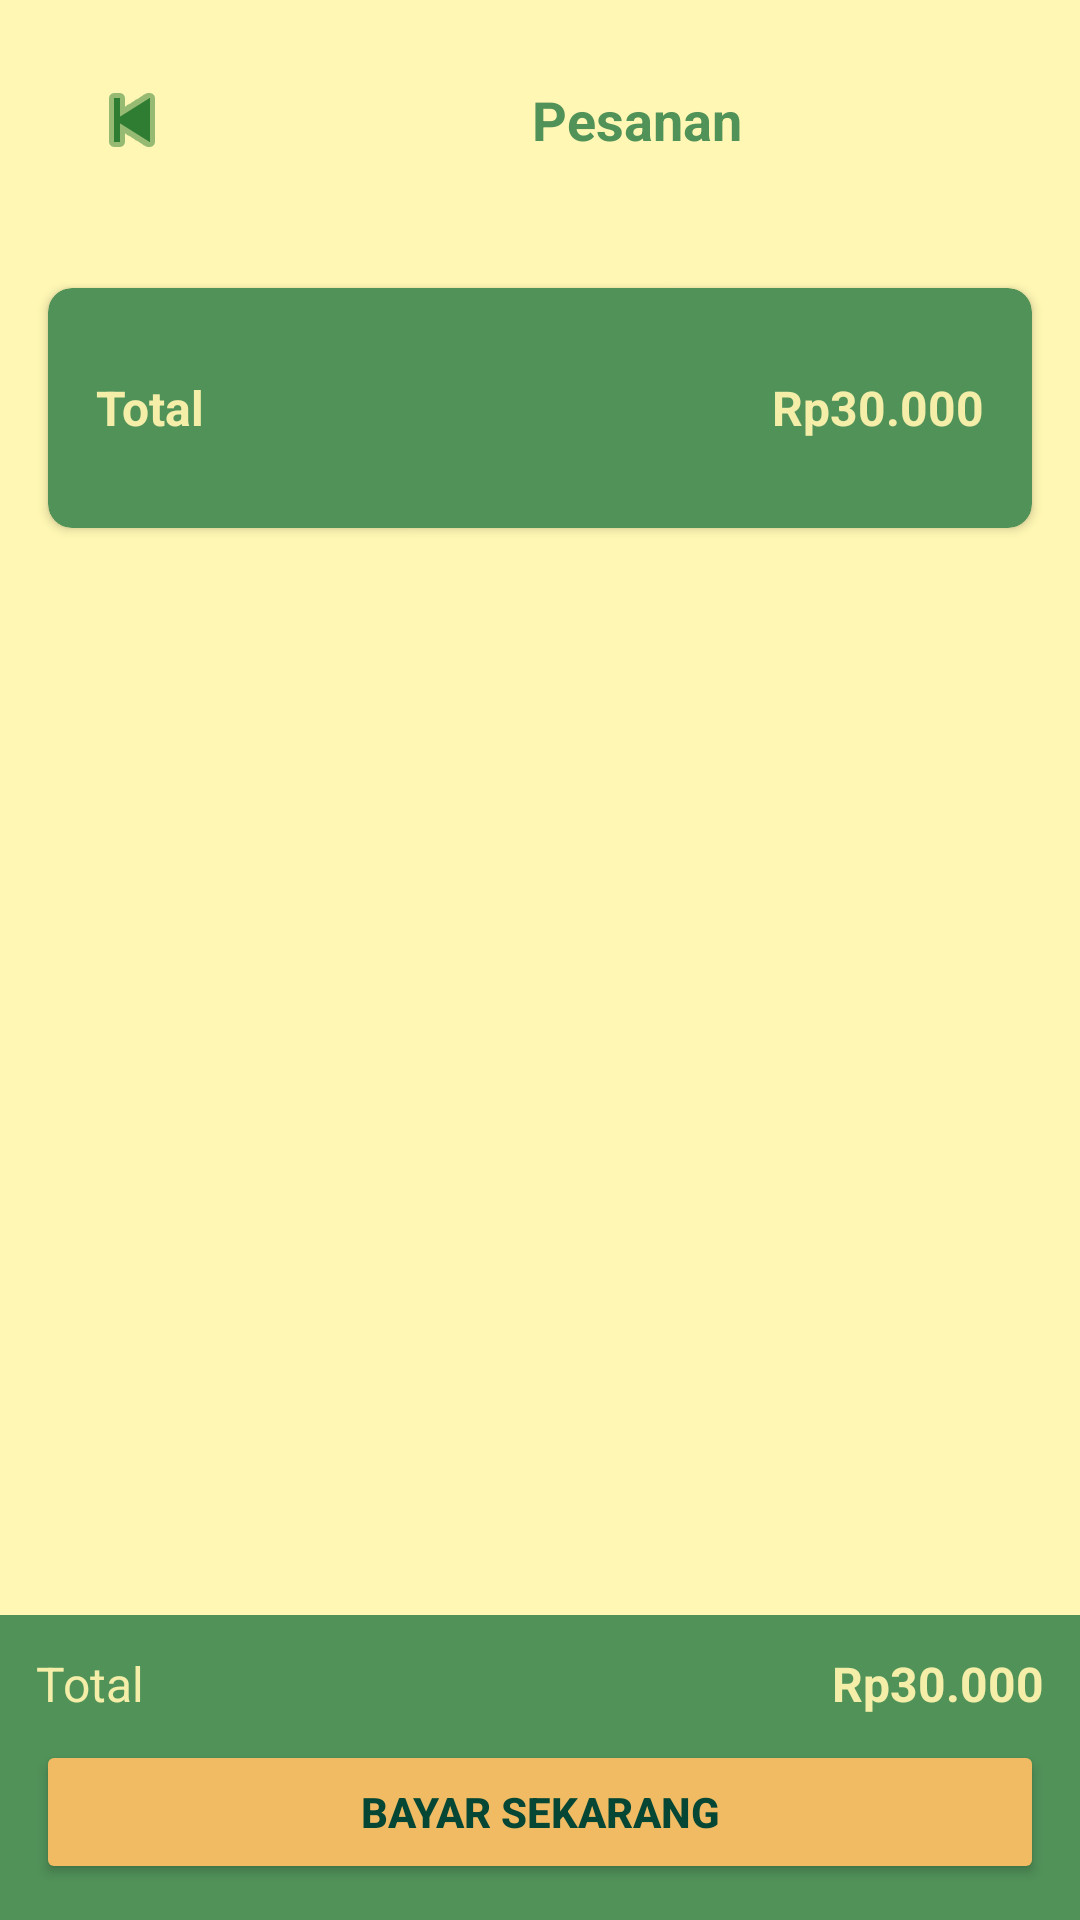

Icon click points for this 1080 x 1920 phone screenshot, format (x=x, y=y):
Kembali: (x=132, y=120)
